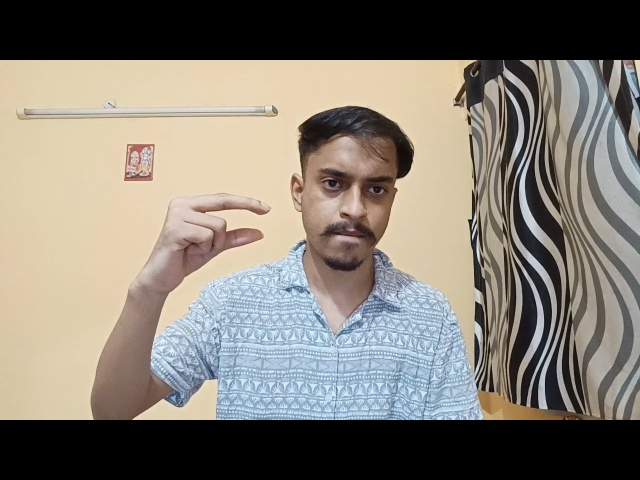No: (135, 179, 289, 290)
